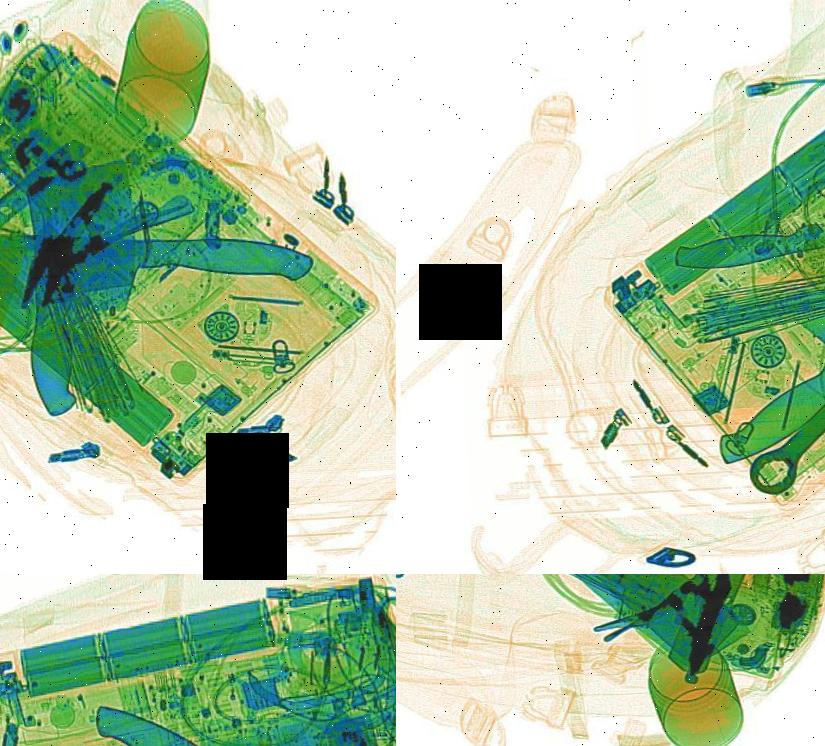Knife: (641, 202, 825, 475), (400, 574, 756, 693), (0, 209, 319, 333), (412, 574, 750, 690), (20, 157, 151, 414), (24, 677, 396, 746), (47, 682, 396, 746), (670, 201, 825, 274)
Wrench: (717, 250, 825, 501)
